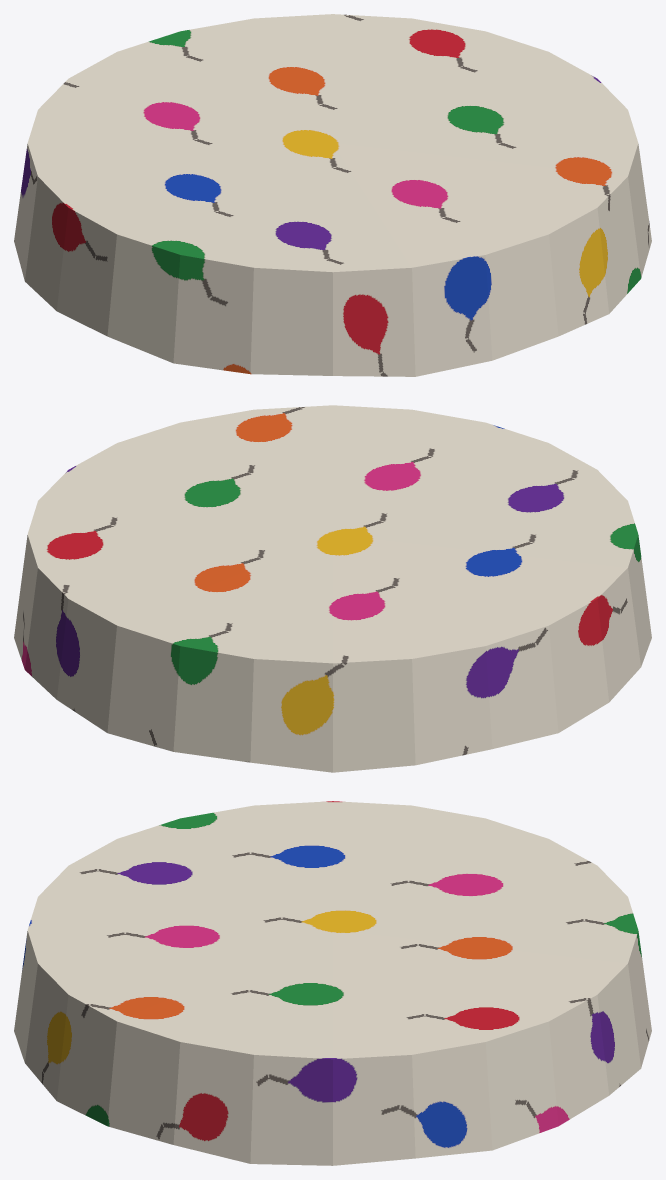
The model's file is party_cloth_round_balloons.glb.
The picture shows the model from 3 angles, top to bottom: view 1: azimuth 30°, elevation 25°; view 2: azimuth 150°, elevation 25°; view 3: azimuth 270°, elevation 25°; orthographic projection.
Visible parts, largest first — view 1: party_cloth_round_balloons_body; view 2: party_cloth_round_balloons_body; view 3: party_cloth_round_balloons_body.
Boxes of the visible parts, x1=… form: party_cloth_round_balloons_body: x1=14, y1=14, x2=651, y2=376; party_cloth_round_balloons_body: x1=14, y1=405, x2=651, y2=772; party_cloth_round_balloons_body: x1=14, y1=801, x2=651, y2=1165.
Size of the model in its own units: 1.28 by 0.2302 by 1.28.
Materials: 1 (1 with a texture image).
